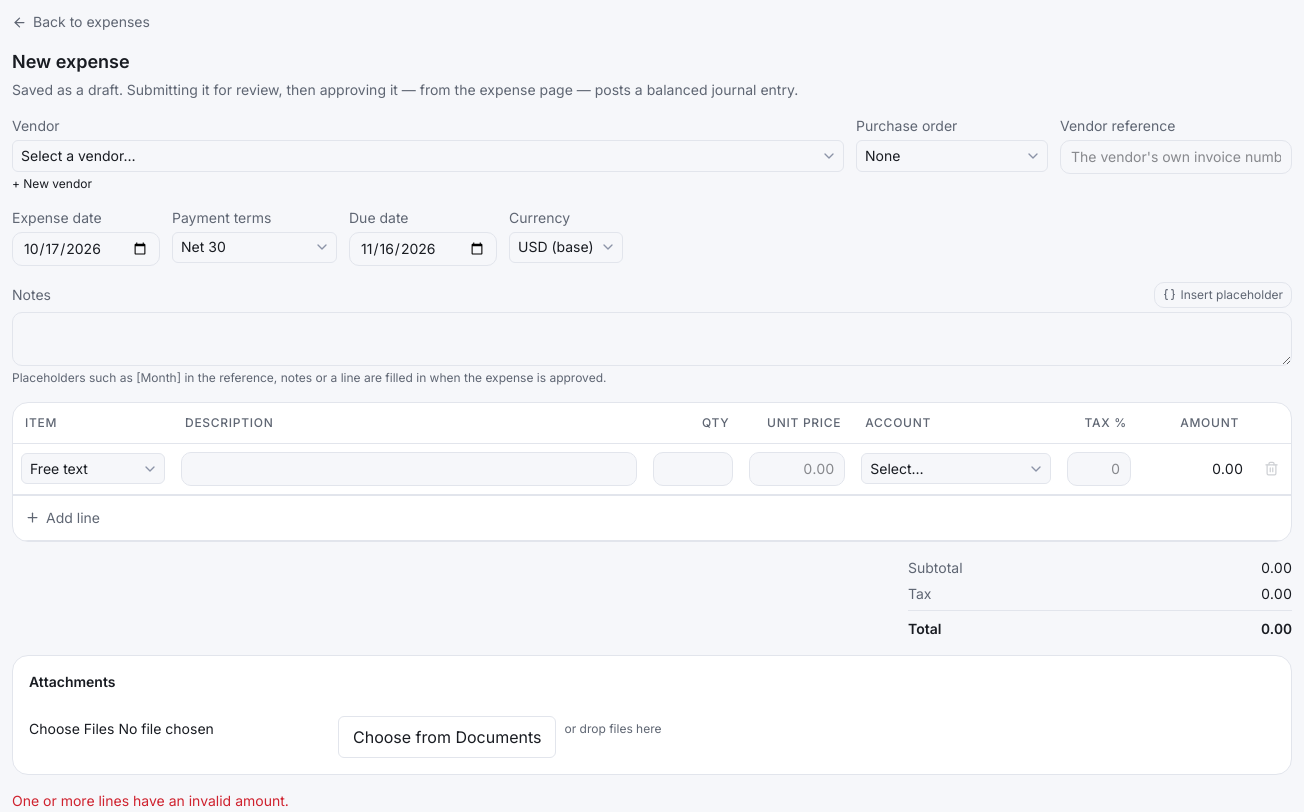
Test: default payment terms on the new expense form › choosing a vendor with a default switches the term and the due date
Expected: the dropdown labelled "Payment terms" shows "Net 30", [172,232,337,263]
Select "Acme Supplies" in the dropdown showing "Select a vendor…". click: (428, 156)
box: [12,140,844,172]
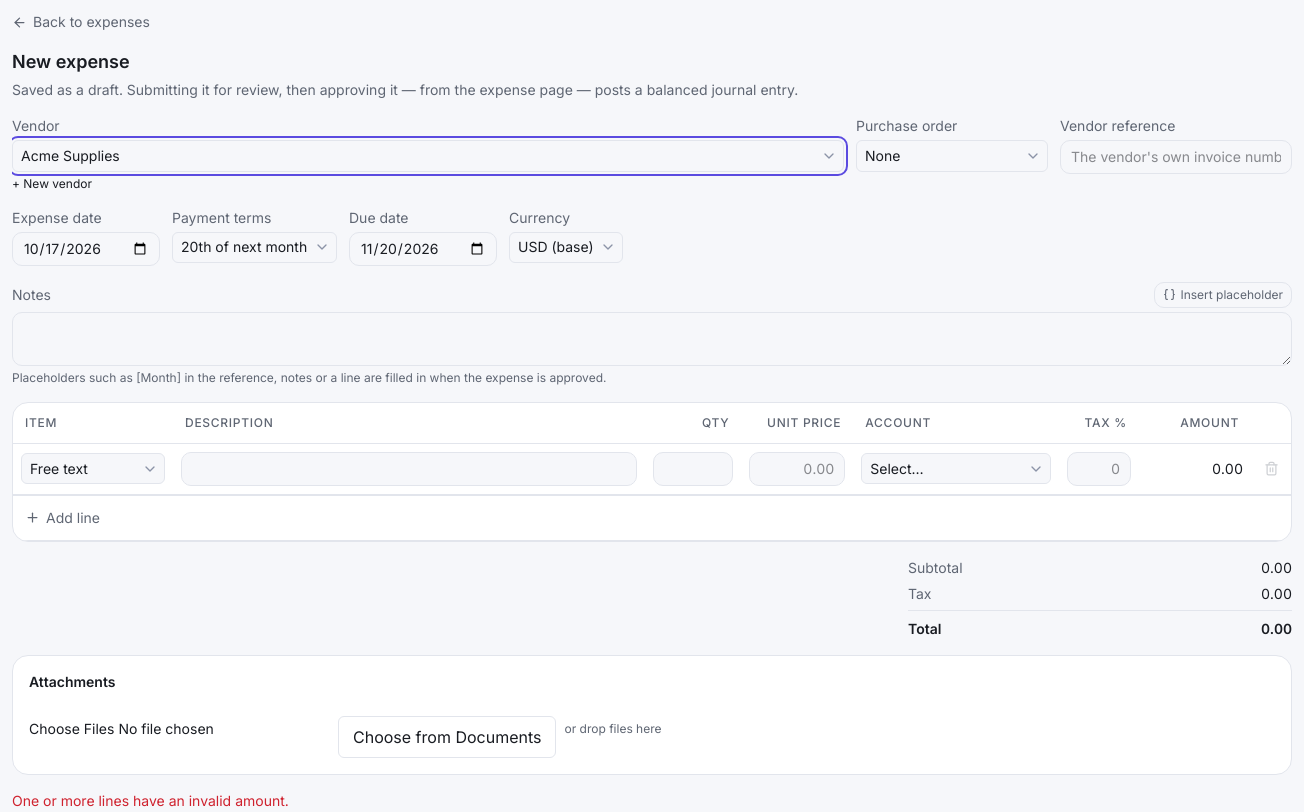
Result: the dropdown labelled "Payment terms" shows "20th of next month" at [172,232,337,263]
Result: the date field labelled "Due date" holds "2026-11-20" at [349,232,497,266]
